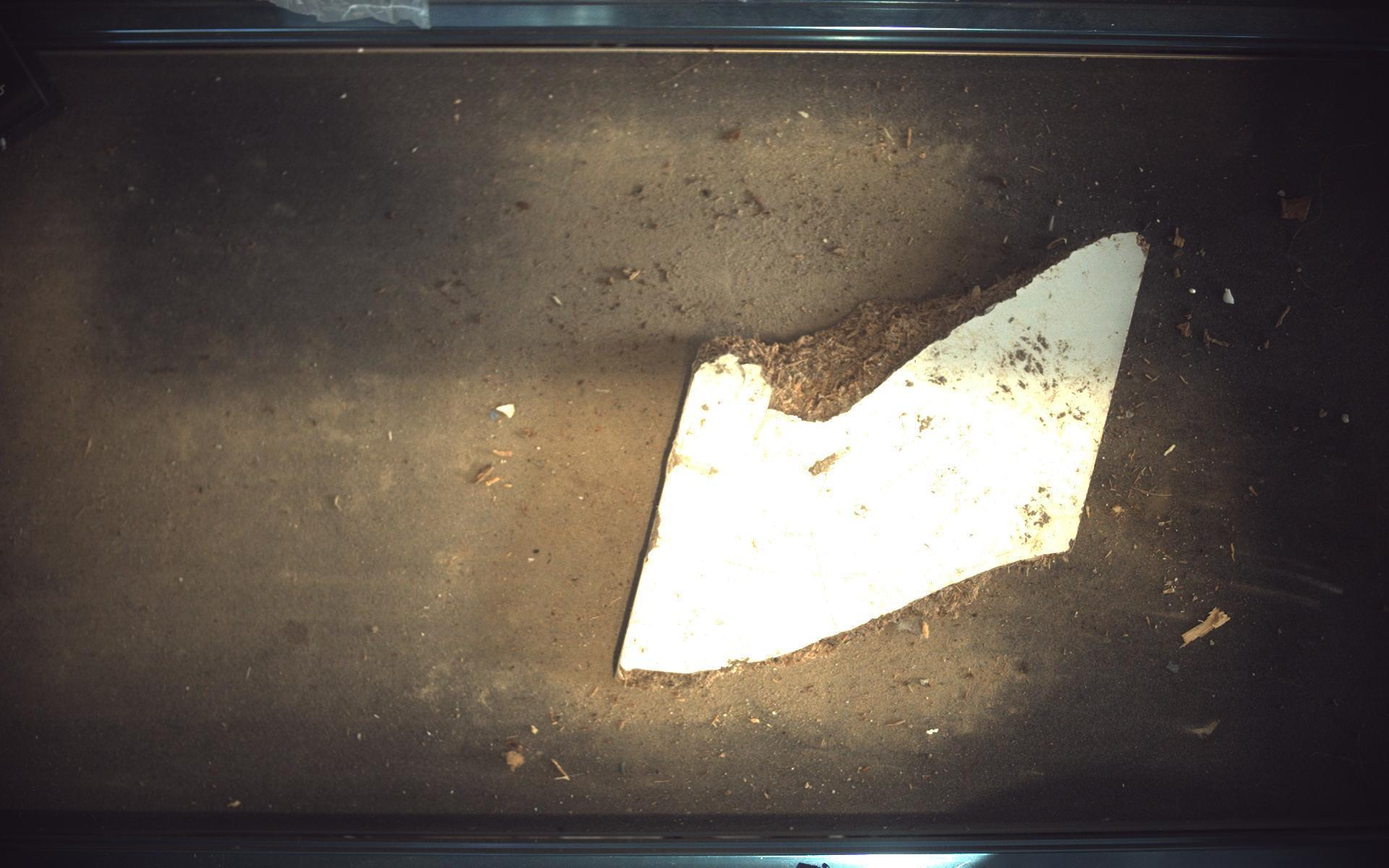wood: (619, 232, 1151, 689)
